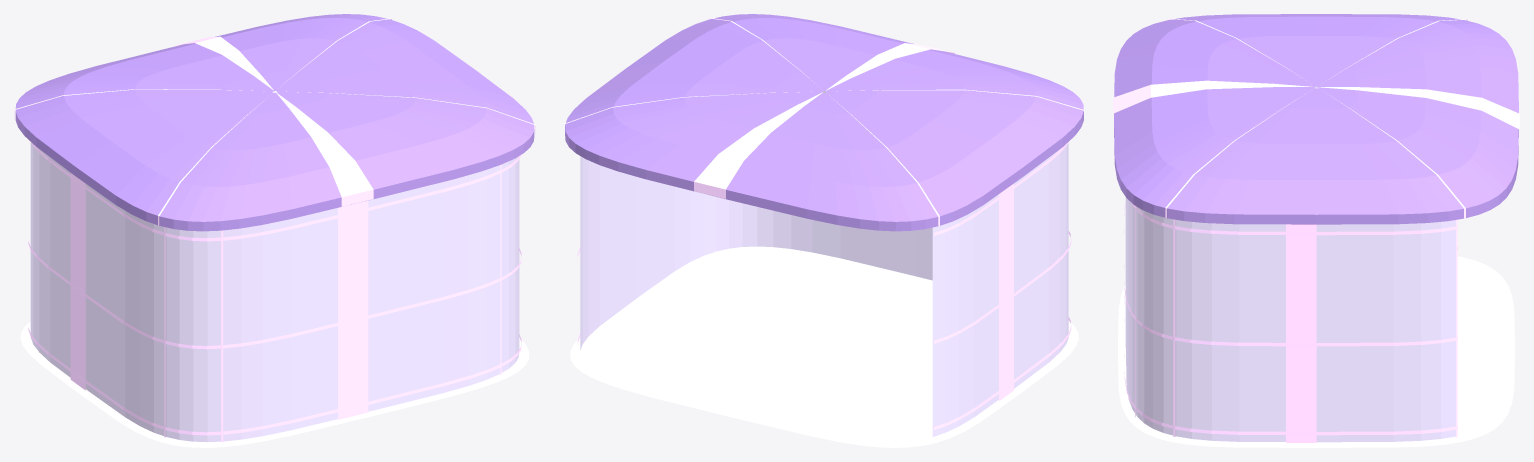
Rendered from cabin-hiphop.glb.
The picture shows the model from 3 angles, left to right: view 1: azimuth 30°, elevation 25°; view 2: azimuth 150°, elevation 25°; view 3: azimuth 270°, elevation 25°; orthographic projection. The views are drawn at different scales.
Visible parts, largest first — view 1: VINYL LODGE; view 2: VINYL LODGE; view 3: VINYL LODGE.
Boxes of the visible parts, bbox=[...] form: VINYL LODGE: bbox=[14, 14, 535, 447]; VINYL LODGE: bbox=[564, 14, 1084, 447]; VINYL LODGE: bbox=[1113, 14, 1519, 447].
Bounding box in the file's own units: 9.69 × 5.9 × 8.29.
